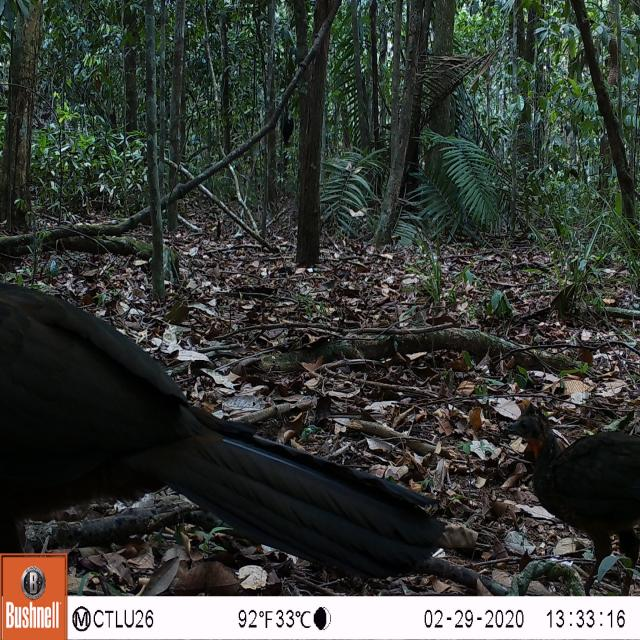Spixs Guan: (0, 265, 447, 585), (500, 407, 640, 592)
